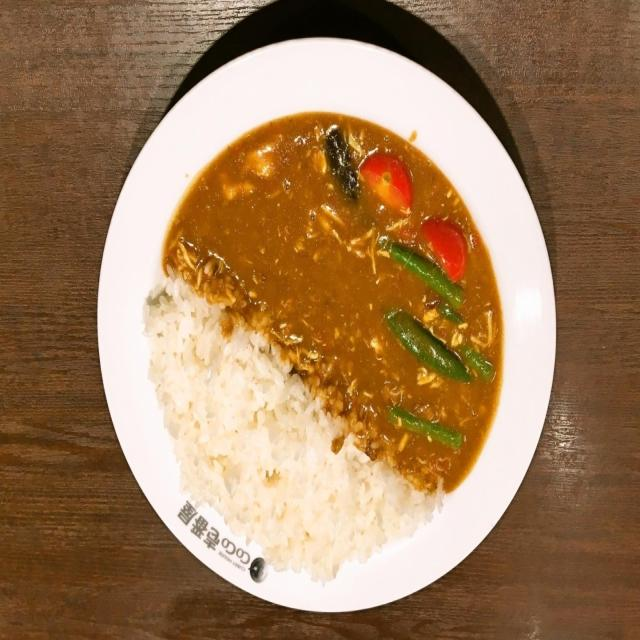Wet: (141, 106, 508, 578)
